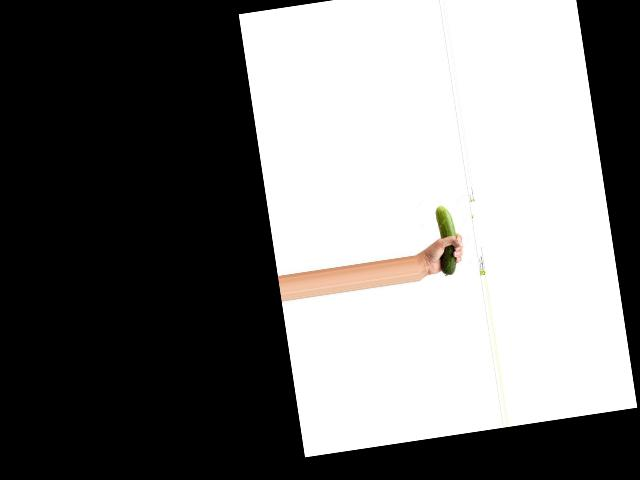cucumber: (432, 204, 462, 275)
